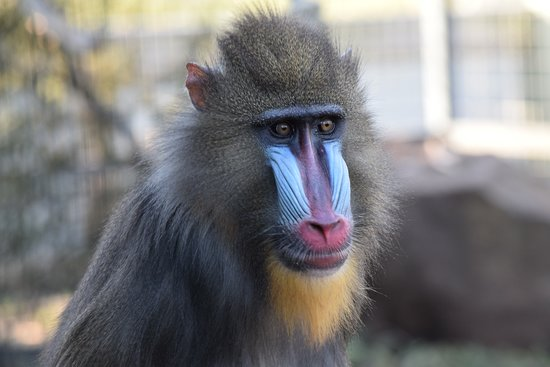Mandrill: (113, 31, 371, 359)
